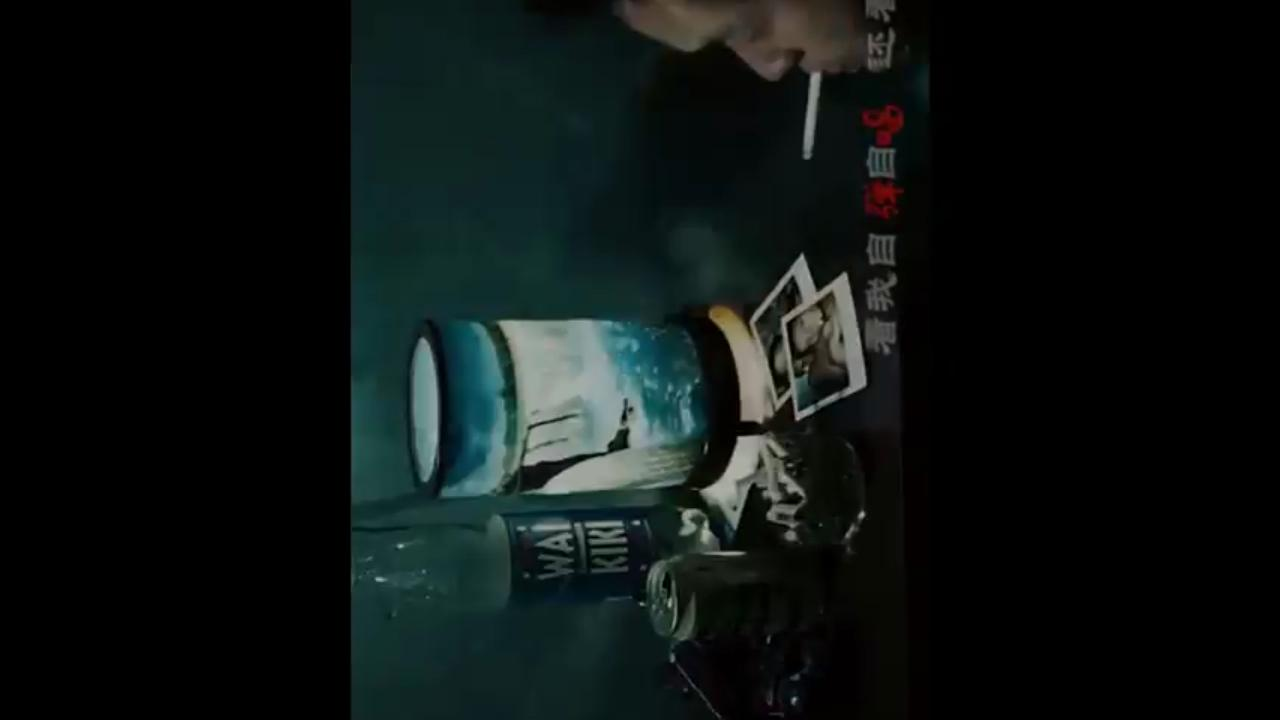Cigarette: (797, 71, 826, 158)
